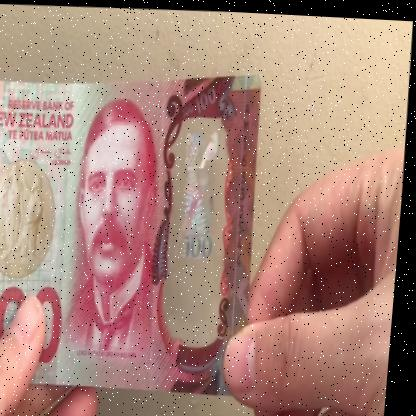100F: (173, 120, 231, 312)
